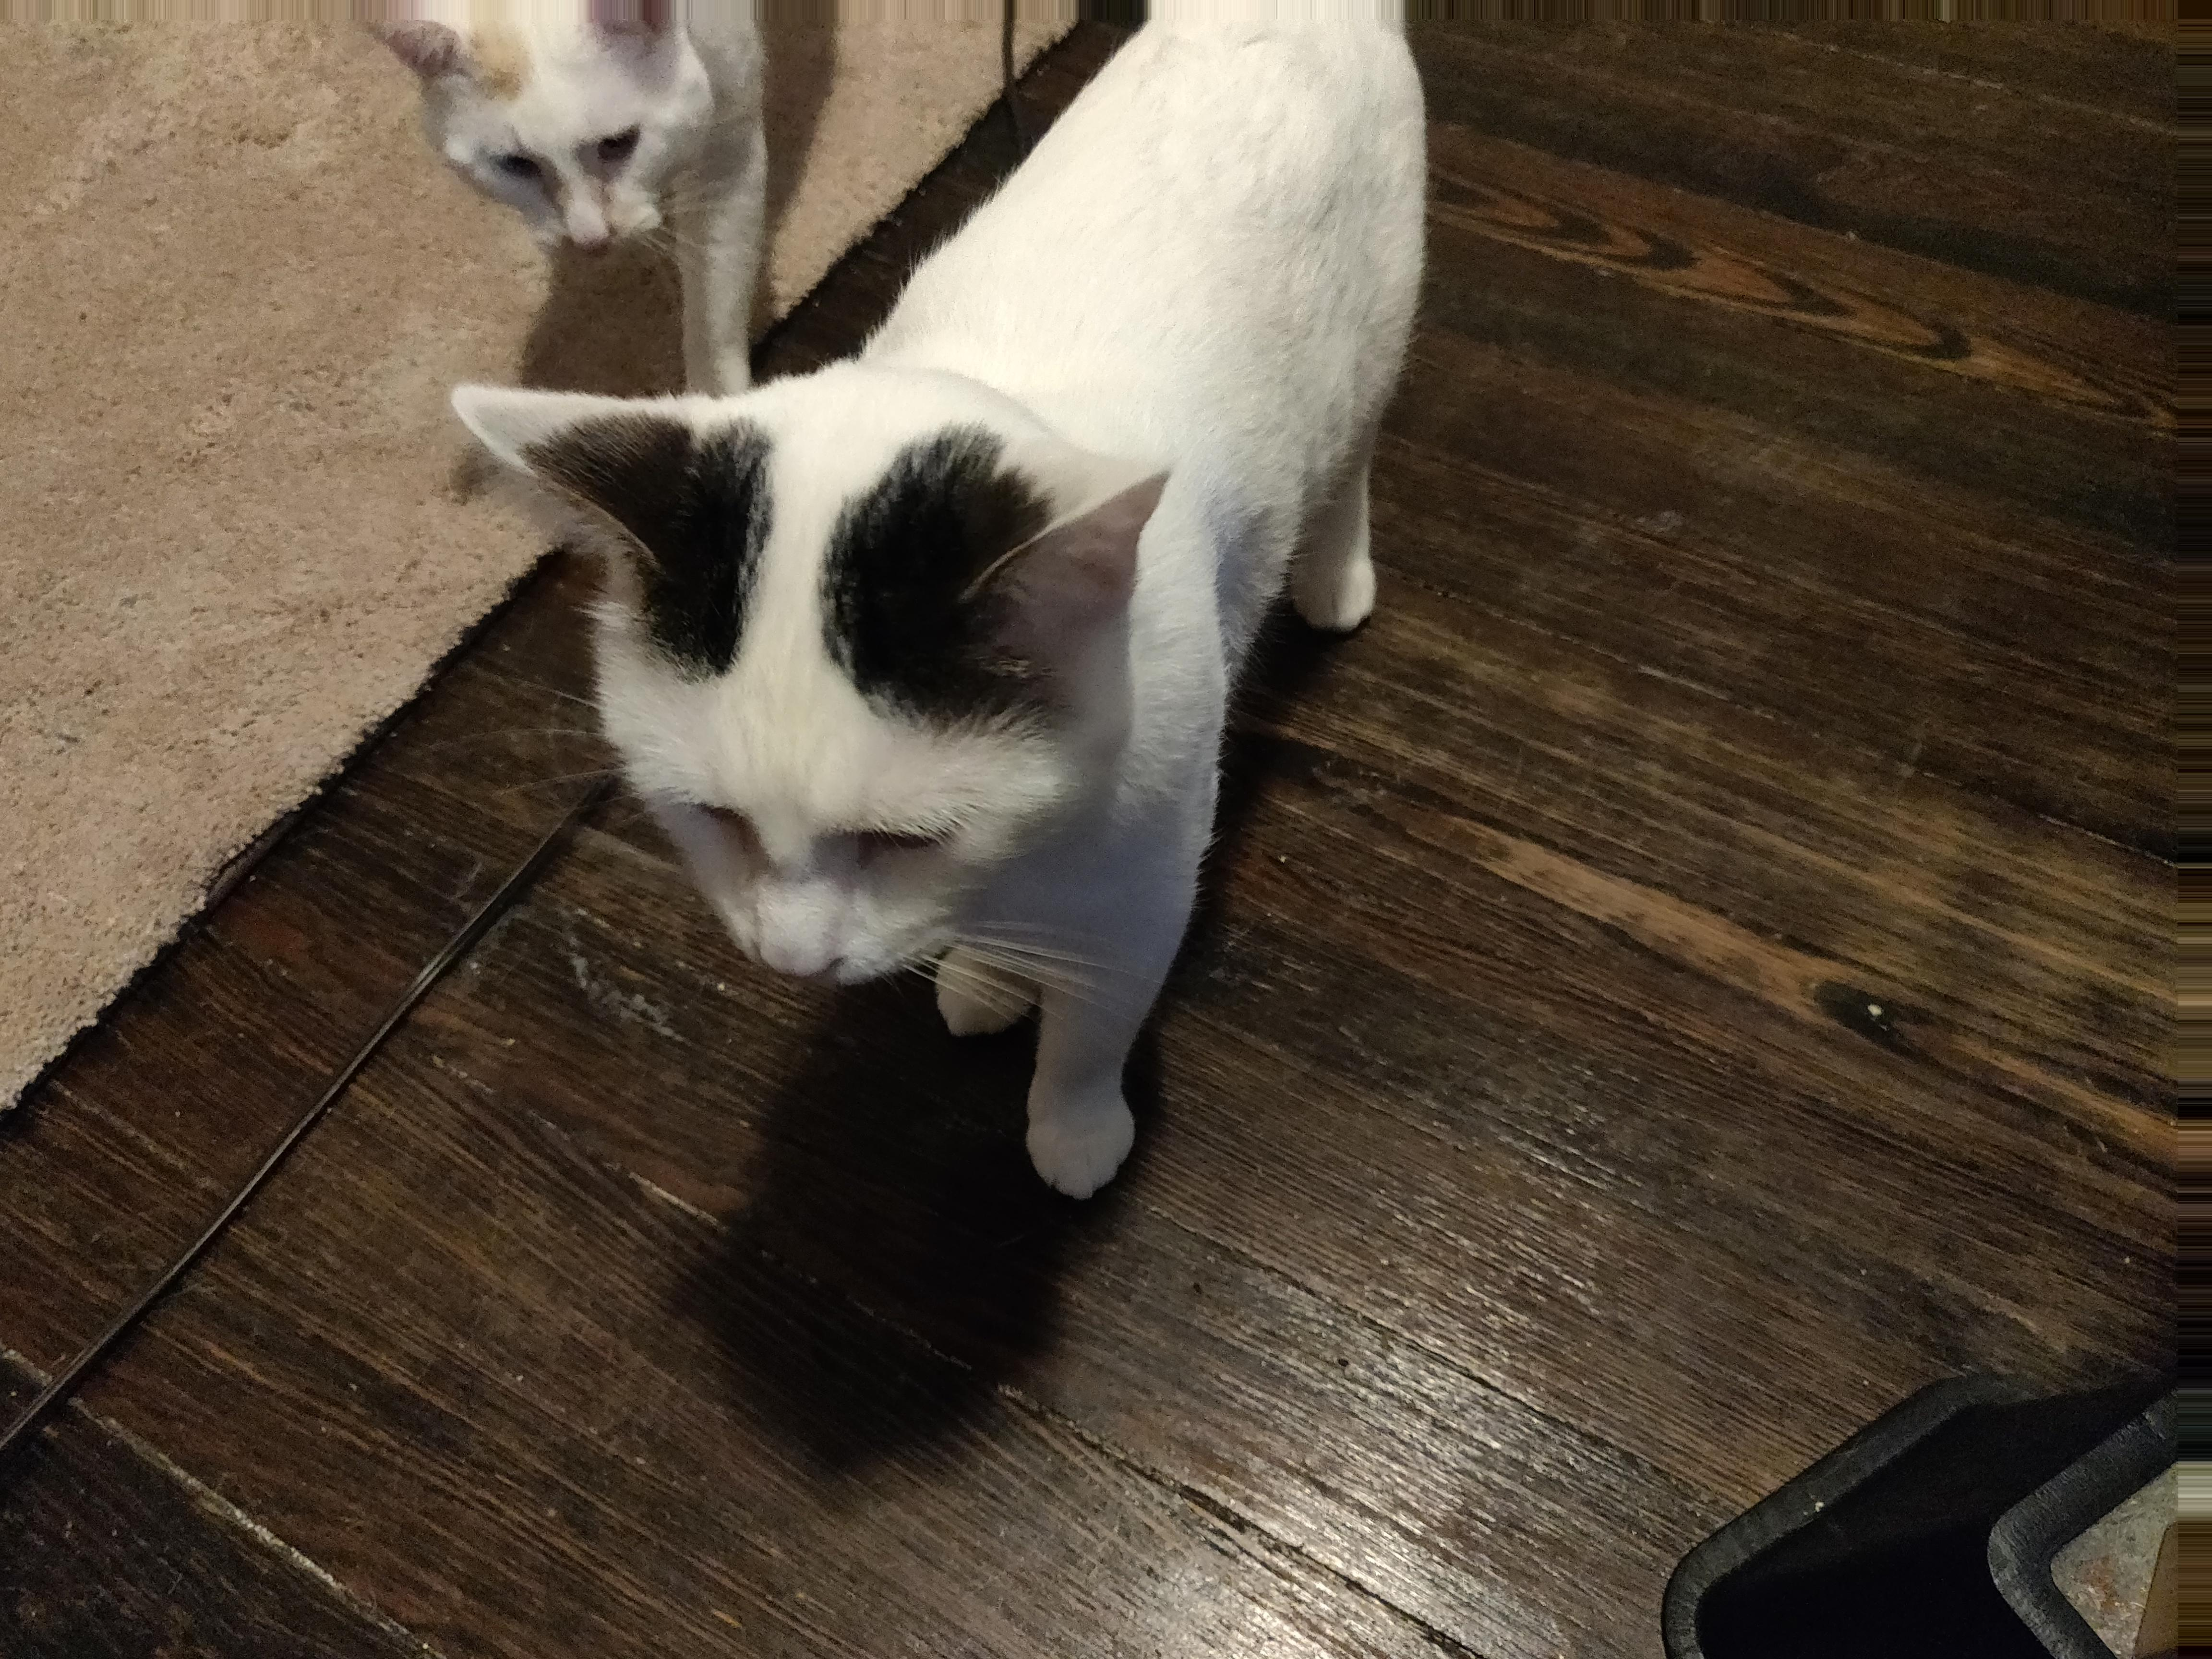cat: (336, 15, 1448, 1185)
